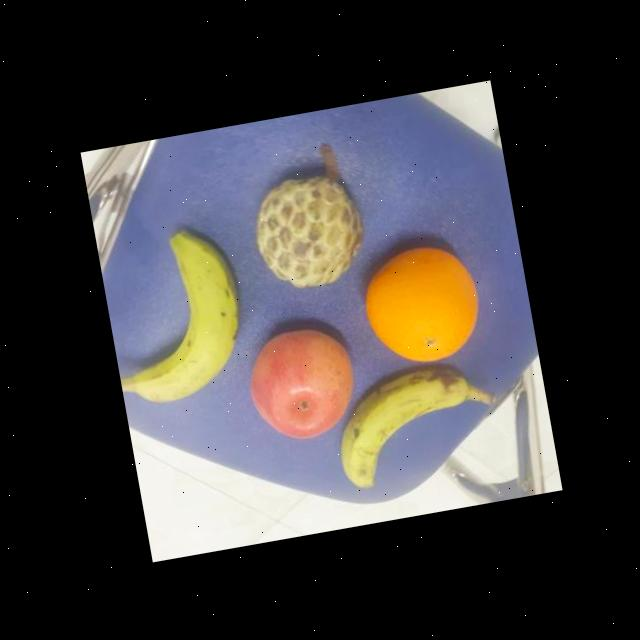Sakya fruit: (240, 164, 374, 300)
apple: (238, 316, 364, 448)
banana: (105, 220, 257, 408), (324, 360, 486, 494)
orange: (352, 235, 493, 376)
